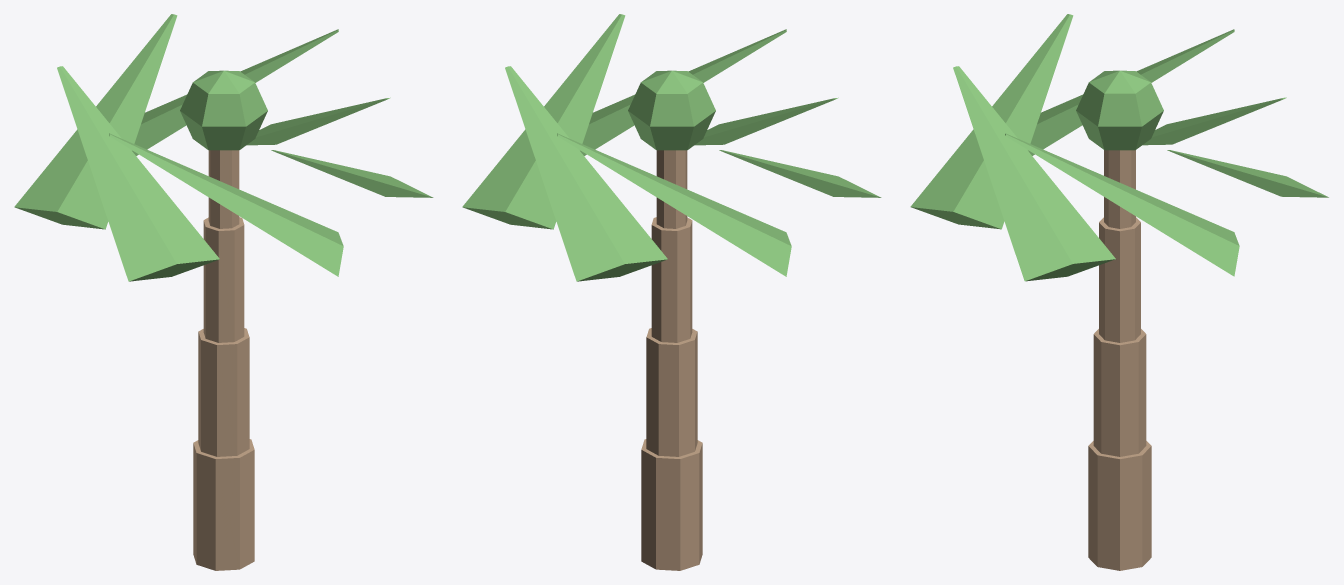
The model's file is tree_palm.glb.
3 views of the same model, side by side, from view 1: azimuth 30°, elevation 25°; view 2: azimuth 150°, elevation 25°; view 3: azimuth 270°, elevation 25° (orthographic).
Visible parts, largest first — view 1: tree_palm; view 2: tree_palm; view 3: tree_palm.
Part boxes in pixels (x1,y1,x2,y2): tree_palm: [14, 14, 433, 570]; tree_palm: [462, 14, 881, 570]; tree_palm: [910, 14, 1328, 570].
Bounding box in the file's own units: 2.12 × 3.05 × 2.38.
